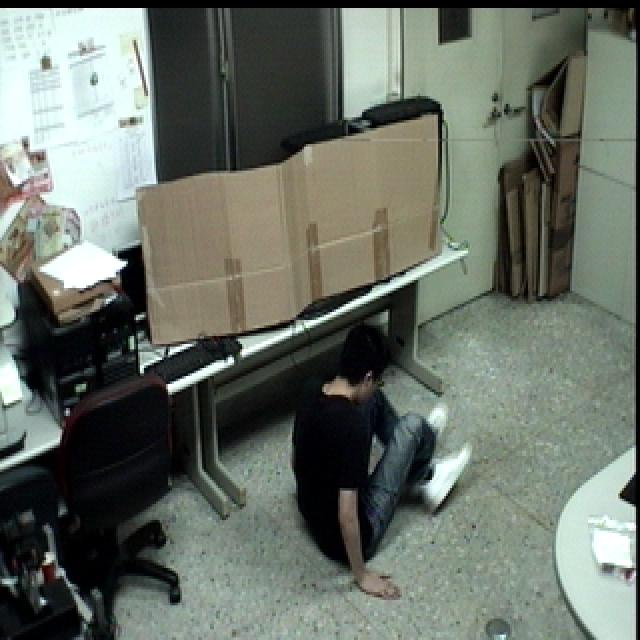sit: (284, 319, 475, 611)
